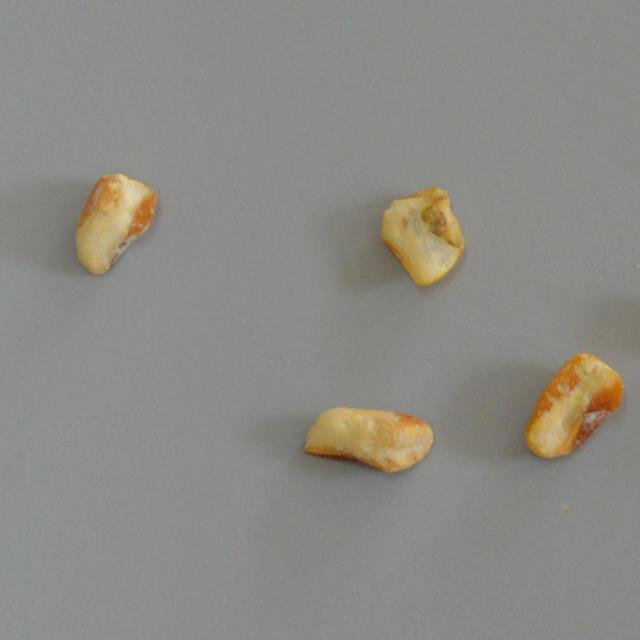dañado: (526, 350, 622, 461), (377, 184, 468, 289), (301, 404, 434, 474), (70, 172, 157, 276)
